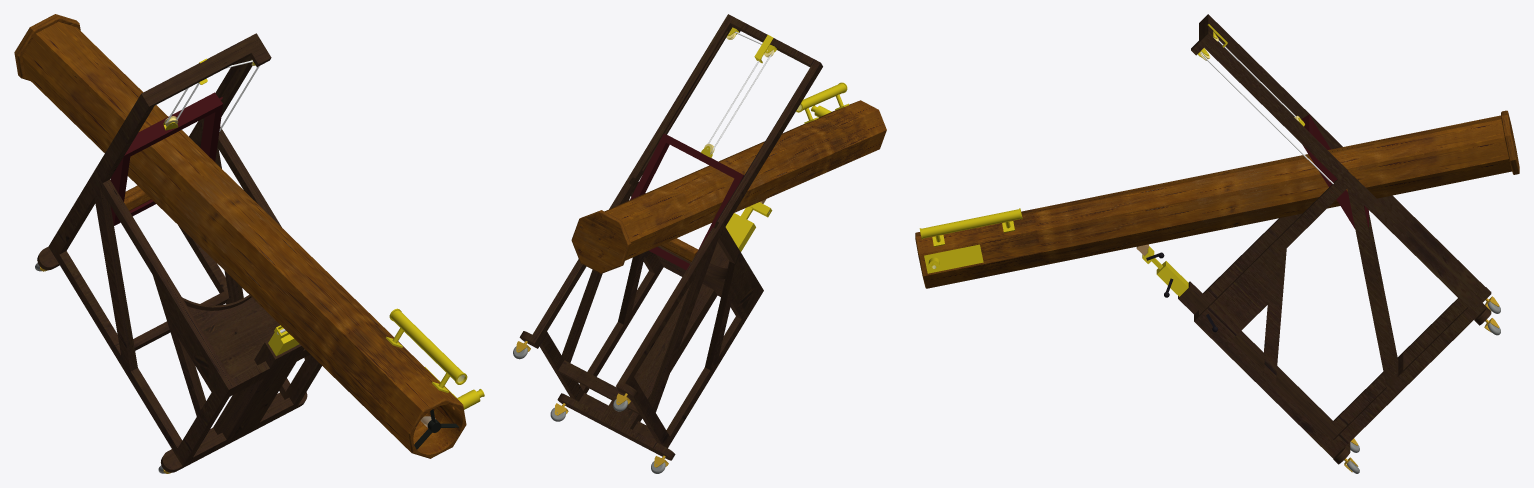
Rendered from herschel7feet_LR.glb.
3 renders of one model, left to right at view 1: azimuth 30°, elevation 25°; view 2: azimuth 150°, elevation 25°; view 3: azimuth 270°, elevation 25°, orthographic. The views are drawn at different scales.
Visible parts, largest first — view 1: Tubo óptico, Base.007, mesh177_mesh, Suporte frontal; view 2: Base.007, Tubo óptico, mesh177_mesh, Suporte frontal, Corda; view 3: Tubo óptico, Base.007, mesh177_mesh, Suporte frontal.
Boxes of the visible parts, x1,y1,x2,y2 form: Tubo óptico: (14,14,466,458); Base.007: (37,33,321,472); mesh177_mesh: (35,58,484,473); Suporte frontal: (268,325,299,356); Base.007: (519,14,822,460); Tubo óptico: (571,100,886,273); mesh177_mesh: (513,27,849,473); Suporte frontal: (725,202,772,251); Corda: (707,32,773,152); Tubo óptico: (915,110,1519,288); Base.007: (1178,14,1491,464); mesh177_mesh: (919,24,1500,473); Suporte frontal: (1142,246,1188,296).
Bounding box in the file's own units: 0.8287 × 1.62 × 2.12.
6 materials, 6 textured.
